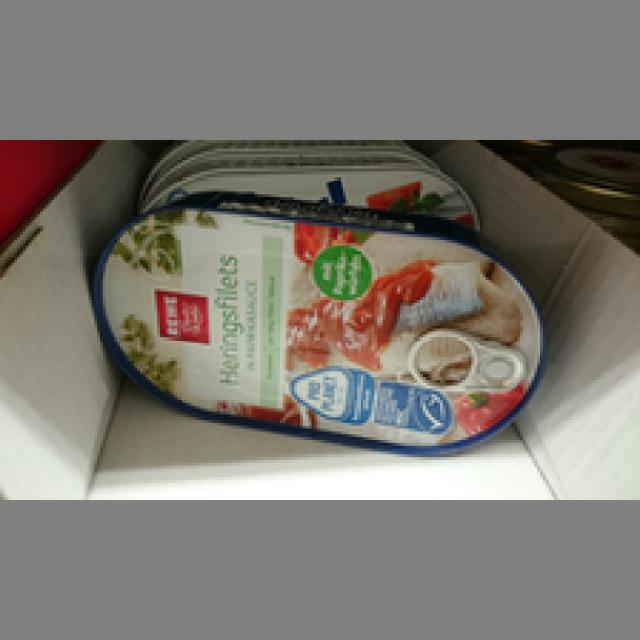groceries: (88, 186, 543, 454)
